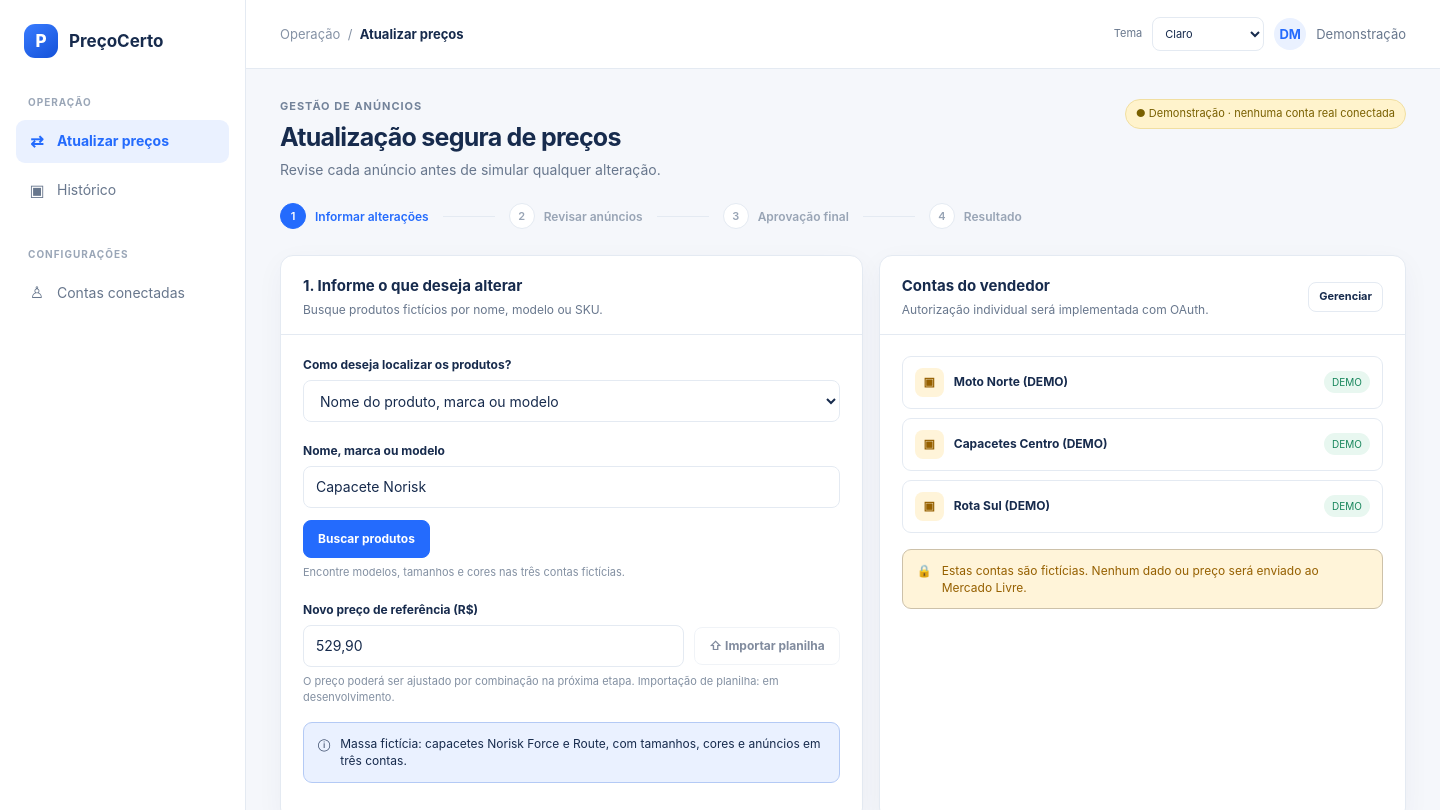
it: aprovação, resultado, histórico e tema › separa vendedores OAuth de teste das três contas DEMO
What coordinates should you click on to do the following:
click the button "♙ Contas conectadas"
I would click on:
 (122, 293)
Its box is [16,271,229,315].
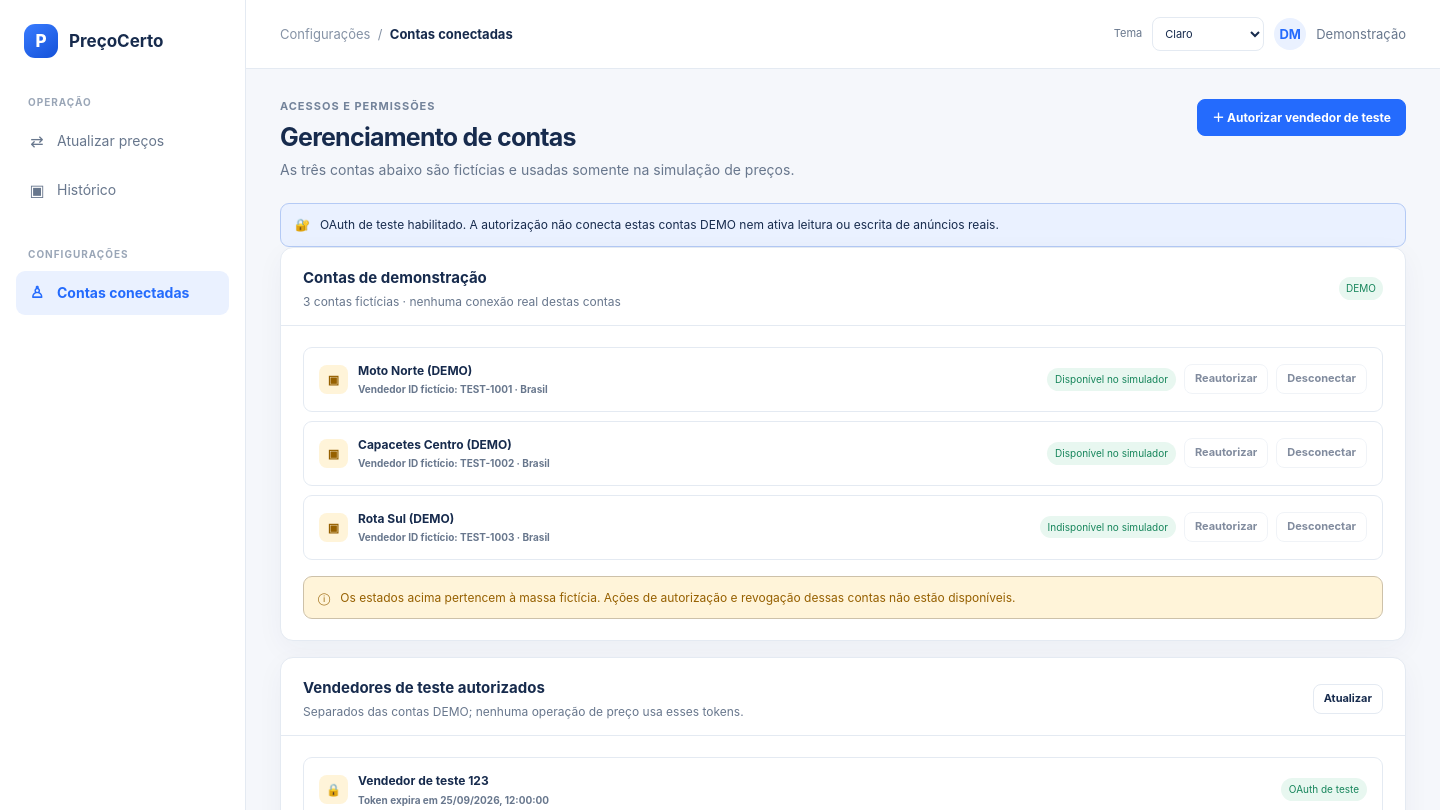
Expected: the button "＋ Autorizar vendedor de teste" is enabled, [1197,99,1406,136]
Expected: the text "Vendedor de teste 123" is shown, [358,773,489,788]
Expected: the text "nenhuma operação de preço usa esses tokens" is shown, [303,704,744,719]
